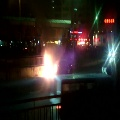fire: (38, 51, 57, 78)
